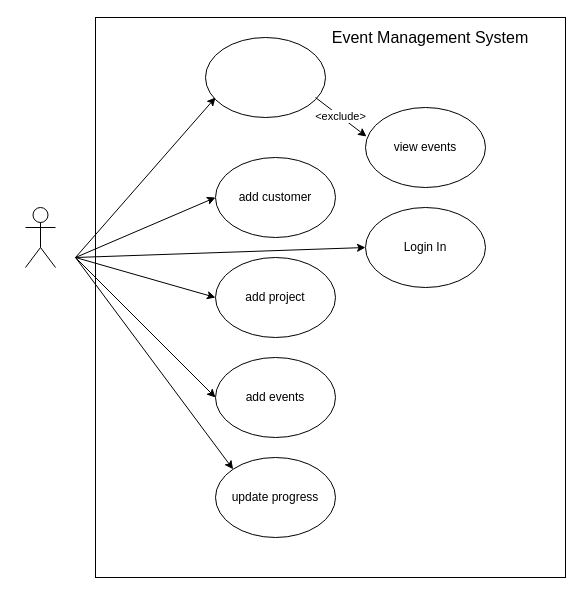
Image size: 583x595. Some labels were removed from this diagram. Each missing label, with the centre of its shape:
"Manager" goes at pixel 40 237.
"view project summary" goes at pixel 265 77.
